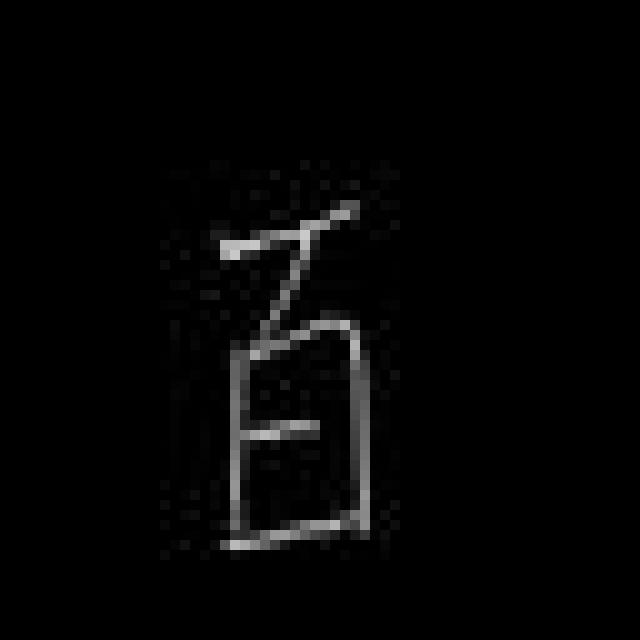100 -a hundred-: (208, 186, 391, 577)
